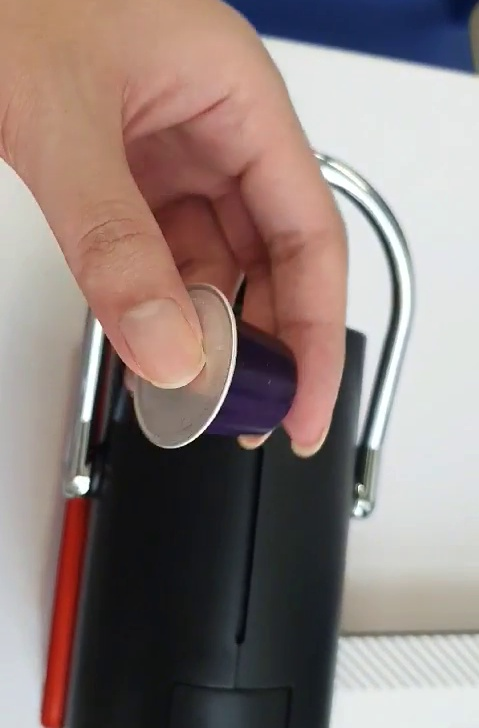capsule_11: (133, 281, 301, 449)
